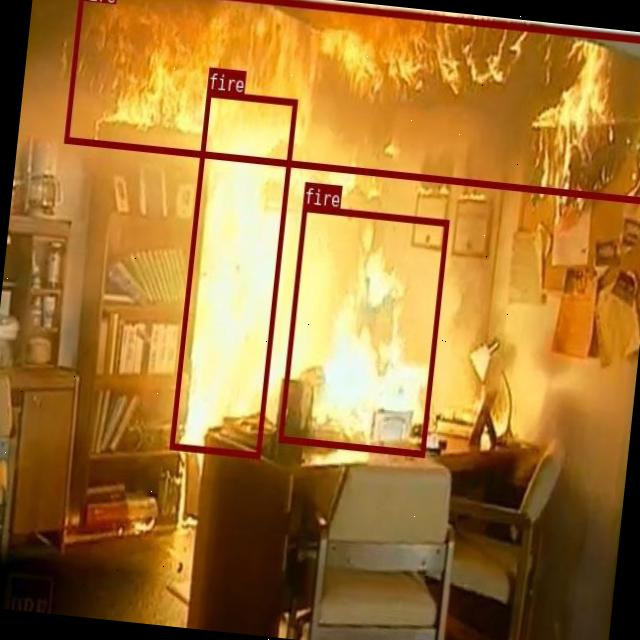fire: (63, 0, 640, 204), (169, 90, 296, 456), (277, 204, 448, 456)
